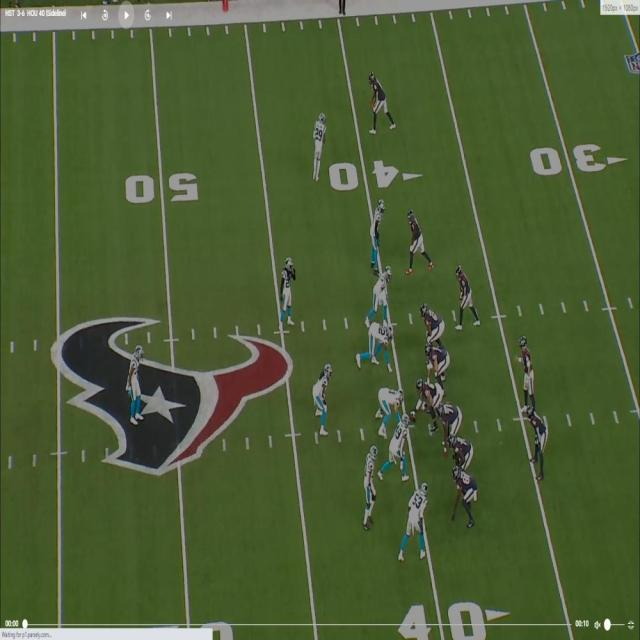center: (417, 381, 440, 418)
db: (129, 345, 146, 422), (454, 469, 476, 528), (371, 200, 387, 266), (316, 115, 328, 179)
lb: (388, 412, 409, 475), (315, 366, 333, 432), (367, 448, 381, 527), (281, 254, 294, 325)
qb: (518, 336, 535, 406)
skill: (402, 485, 428, 558), (368, 72, 397, 135), (526, 403, 549, 474), (454, 266, 477, 326), (408, 210, 428, 264)
